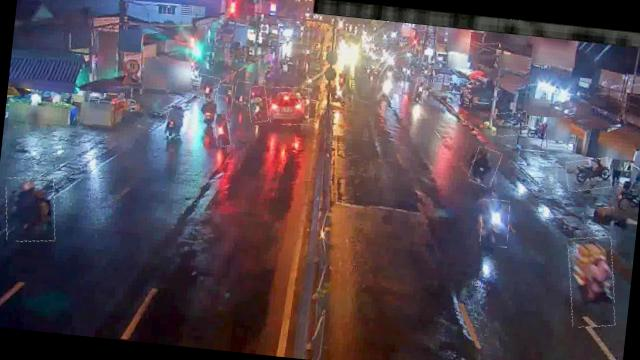Bike: (563, 234, 621, 330), (1, 174, 59, 244), (564, 156, 612, 194), (478, 198, 511, 248), (468, 146, 500, 188), (489, 110, 528, 139), (245, 84, 270, 124), (163, 104, 190, 139), (212, 112, 232, 148), (201, 93, 218, 132), (233, 81, 252, 112), (197, 75, 220, 100), (412, 77, 428, 105), (219, 84, 233, 110)
Car: (268, 86, 311, 128)
